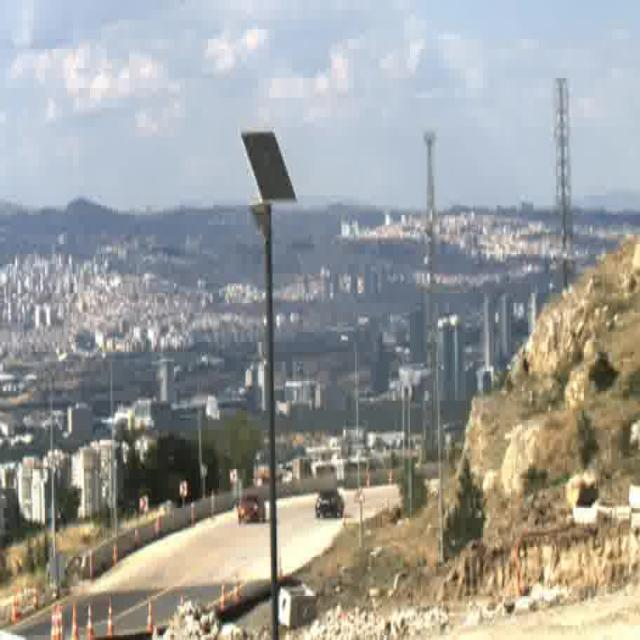Car: (315, 490, 344, 520), (238, 496, 266, 525)
